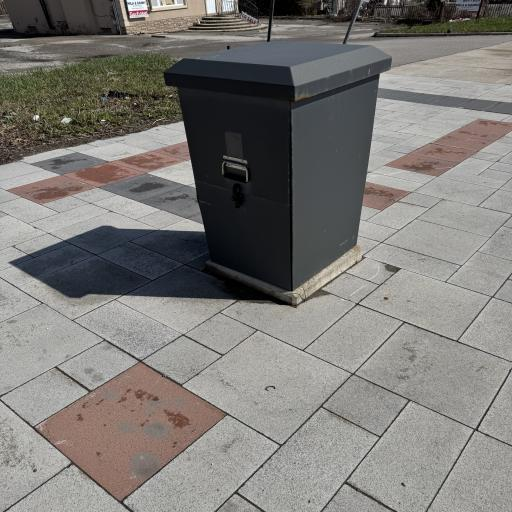Electrical Box: (166, 42, 393, 289)
